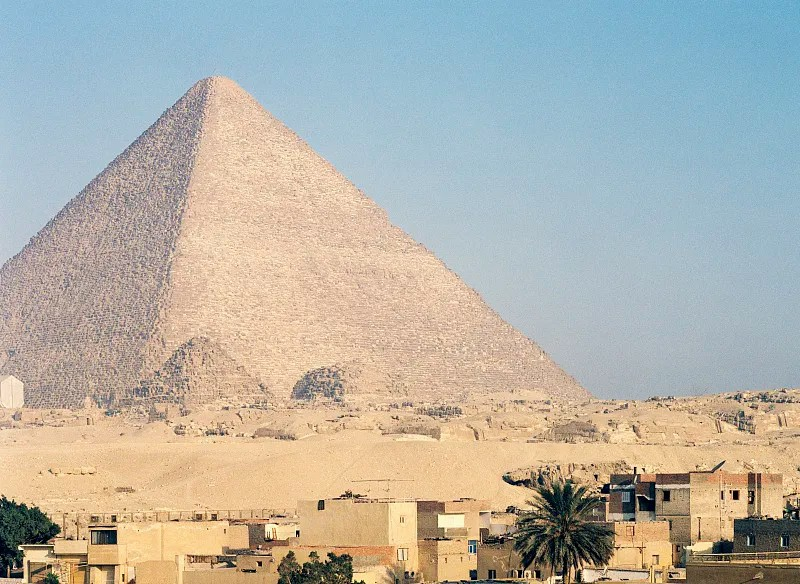Pyramid: (1, 74, 594, 402)
